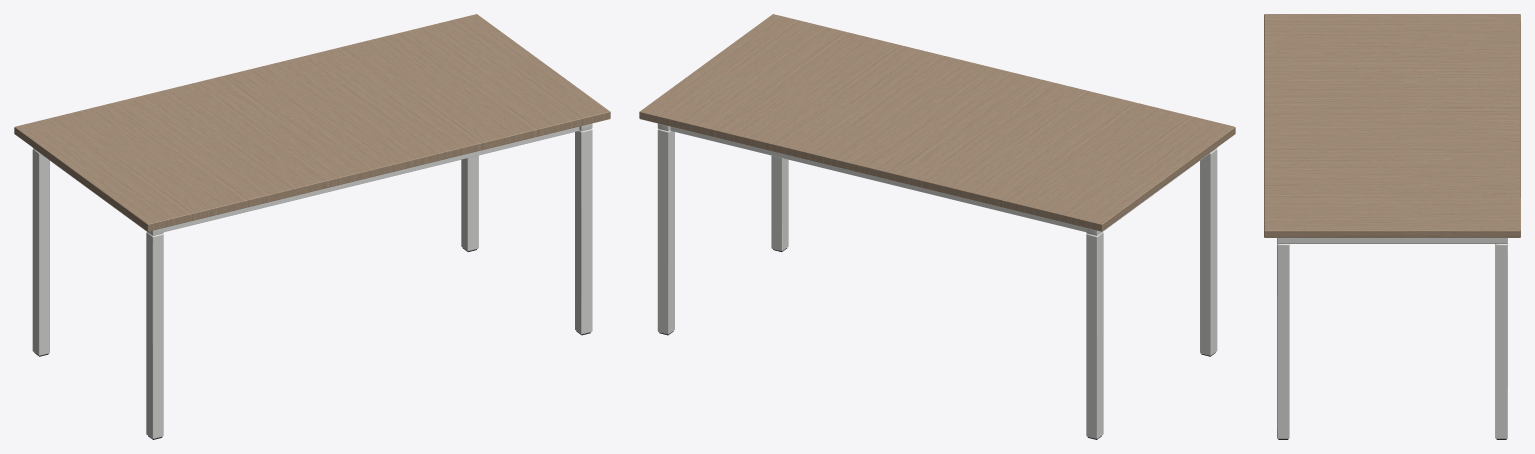
File: desk_160.glb
3 views of the same model, side by side, from view 1: azimuth 30°, elevation 25°; view 2: azimuth 150°, elevation 25°; view 3: azimuth 270°, elevation 25° (orthographic). The views are drawn at different scales.
Visible parts, largest first — view 1: desk_hard; view 2: desk_hard; view 3: desk_hard.
Boxes of the visible parts, <box> form: desk_hard: <box>14,14,610,439</box>; desk_hard: <box>639,14,1235,439</box>; desk_hard: <box>1264,14,1520,439</box>.
Size of the model in its own units: 1.6 by 0.7399 by 0.8001.
Materials: 3 (1 with a texture image).
